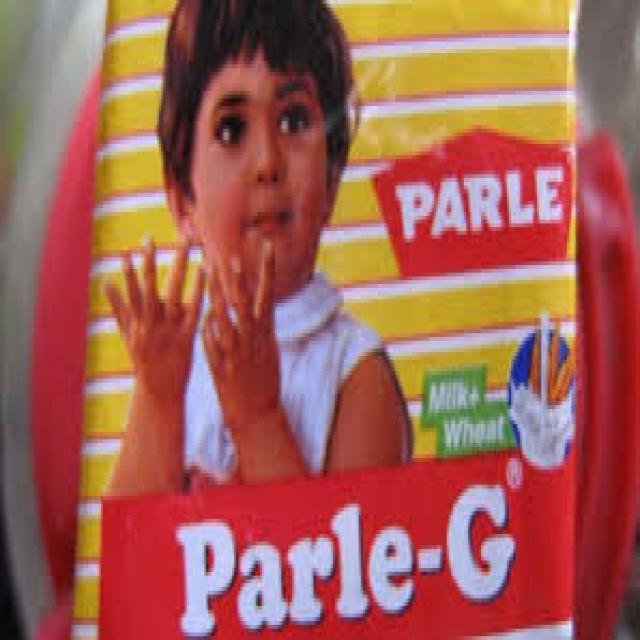parle-g: (101, 0, 575, 640)
